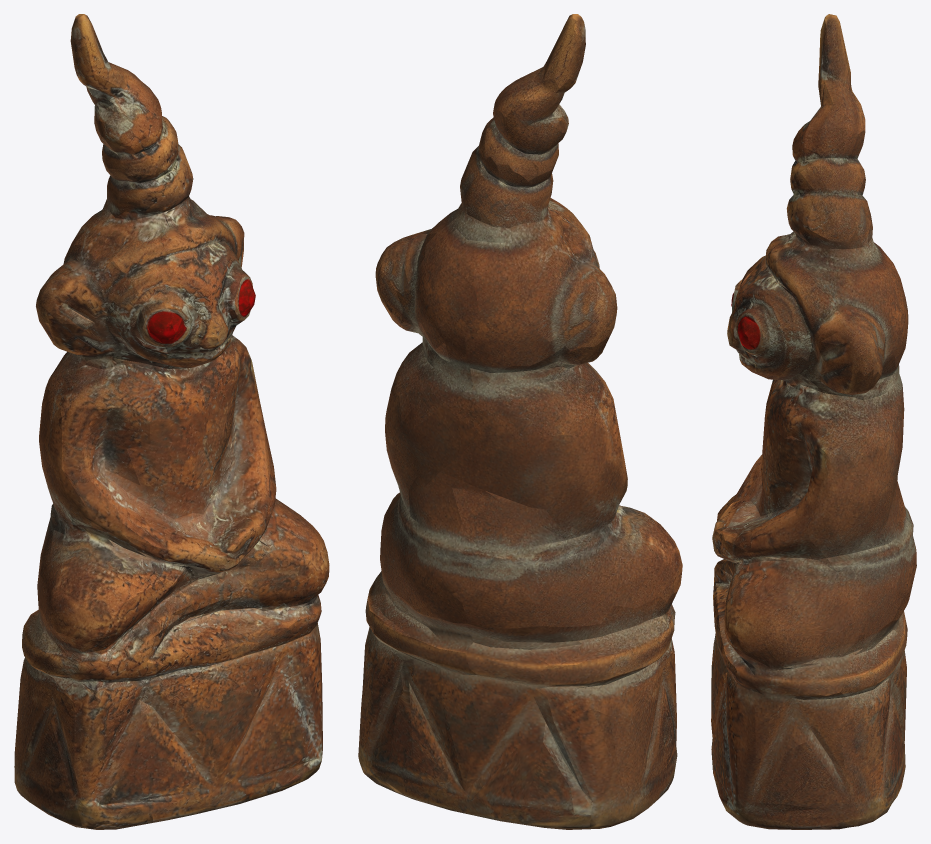
Rendered from remeshed-ngang.glb.
3 views of the same model, side by side, from view 1: azimuth 30°, elevation 25°; view 2: azimuth 150°, elevation 25°; view 3: azimuth 270°, elevation 25° (orthographic). The views are drawn at different scales.
Visible parts, largest first — view 1: output_unwrapped; view 2: output_unwrapped; view 3: output_unwrapped.
Part boxes in pixels (x1,y1,x2,y2): output_unwrapped: (14,14,329,829); output_unwrapped: (358,14,682,829); output_unwrapped: (711,14,916,829).
Size of the model in its own units: 0.7081 by 1.9 by 0.4877.
1 material, 1 textured.
